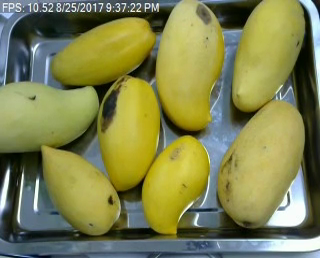Mango: (207, 95, 308, 235), (154, 1, 229, 133), (36, 138, 125, 240), (42, 8, 151, 89), (235, 2, 307, 119), (94, 69, 161, 192), (138, 131, 214, 237), (0, 77, 101, 155)
